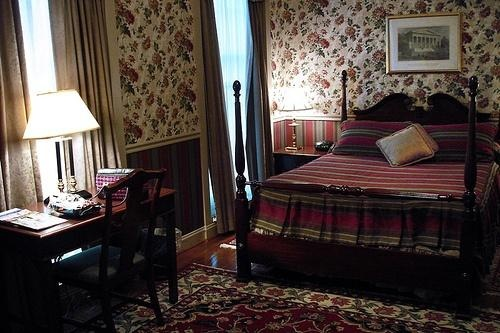chair: (52, 166, 167, 332)
